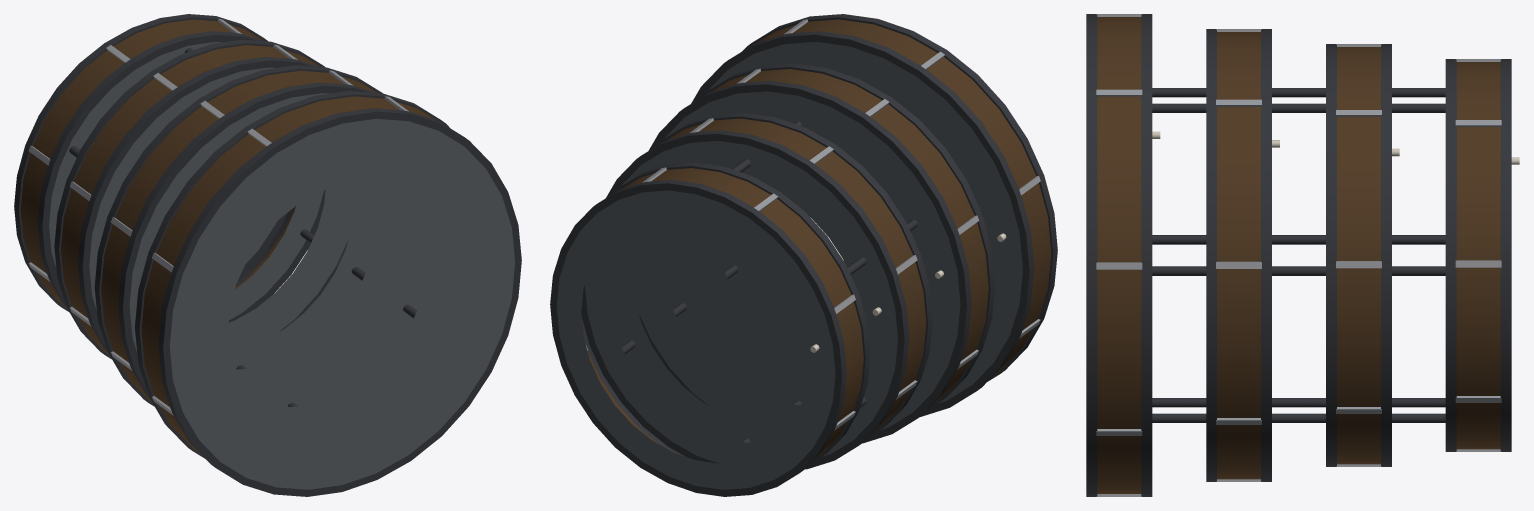
The model's file is n1_coil_stack.obj.
3 renders of one model, left to right at view 1: azimuth 30°, elevation 25°; view 2: azimuth 150°, elevation 25°; view 3: azimuth 270°, elevation 25°, orthographic. The views are drawn at different scales.
Visible parts, largest first — view 1: n1_coil_stack; view 2: n1_coil_stack; view 3: n1_coil_stack.
Part boxes in pixels (x1,y1,x2,y2): n1_coil_stack: [14, 14, 521, 496]; n1_coil_stack: [550, 14, 1057, 496]; n1_coil_stack: [1086, 14, 1519, 496].
Bounding box in the file's own units: 3.39 × 3.39 × 3.04.
